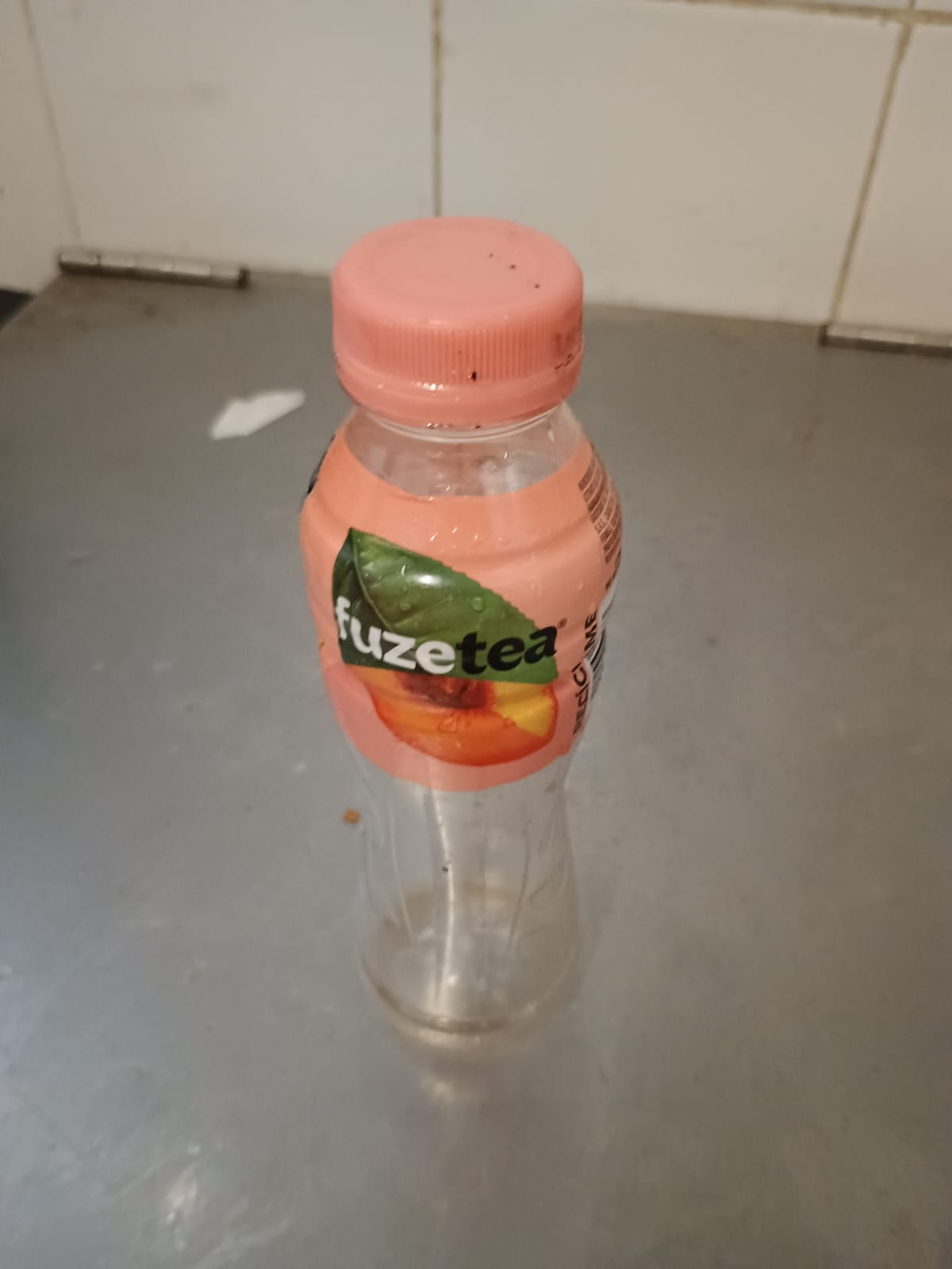Plastico: (292, 214, 627, 1037)
